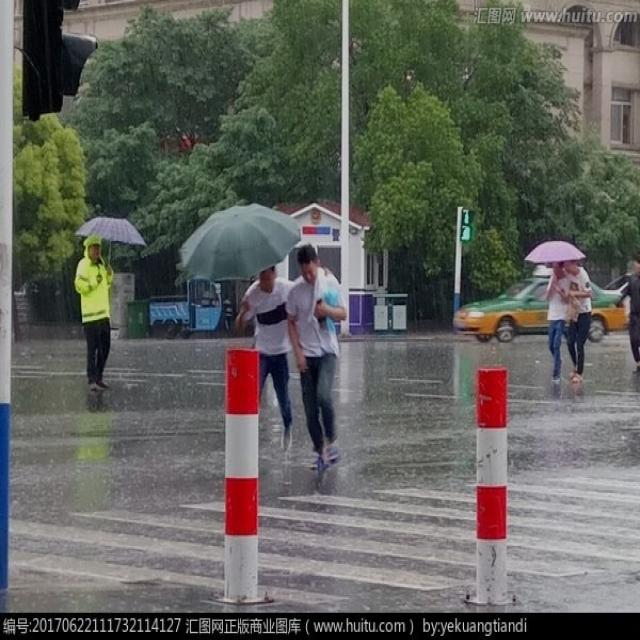non-fight: (284, 249, 354, 482), (235, 248, 298, 462), (70, 224, 120, 394)
